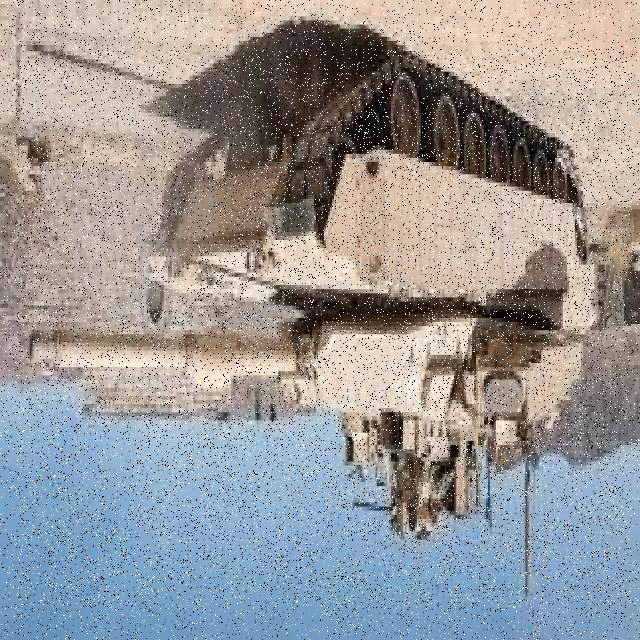MIL_MBT: (17, 49, 631, 605)
